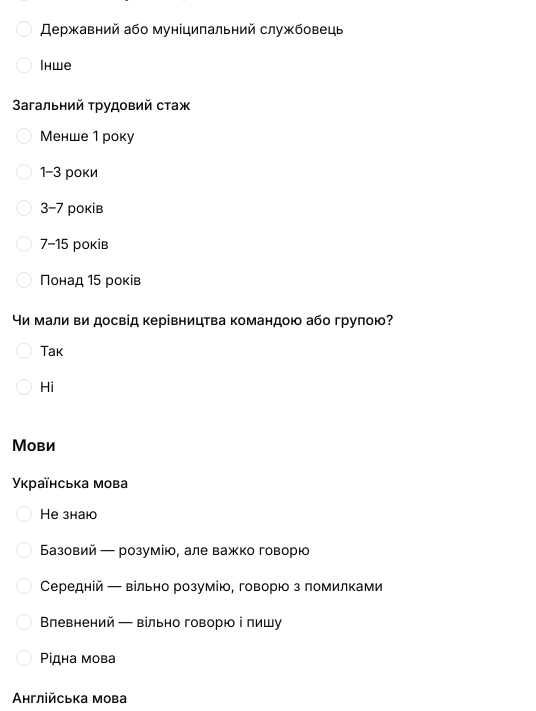
it: BasicInfoBlock — conditional team size › shows team size question after selecting Так for leadership
(page scrolled)
Note: Click Так radio button
Click the text "Так". click: (52, 351)
box: top-left (40, 341), bottom-right (64, 361)
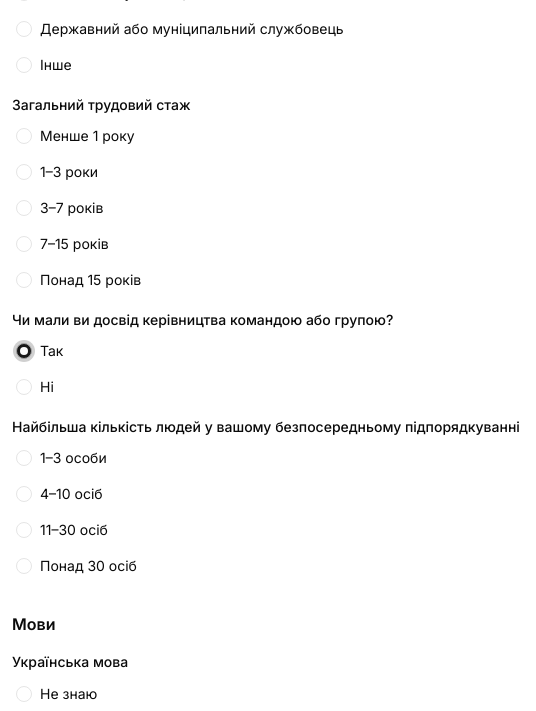
Now the text "Найбільша кількість людей у вашому безпосередньому підпорядкуванні" is shown, box top-left (12, 418), bottom-right (520, 435)
